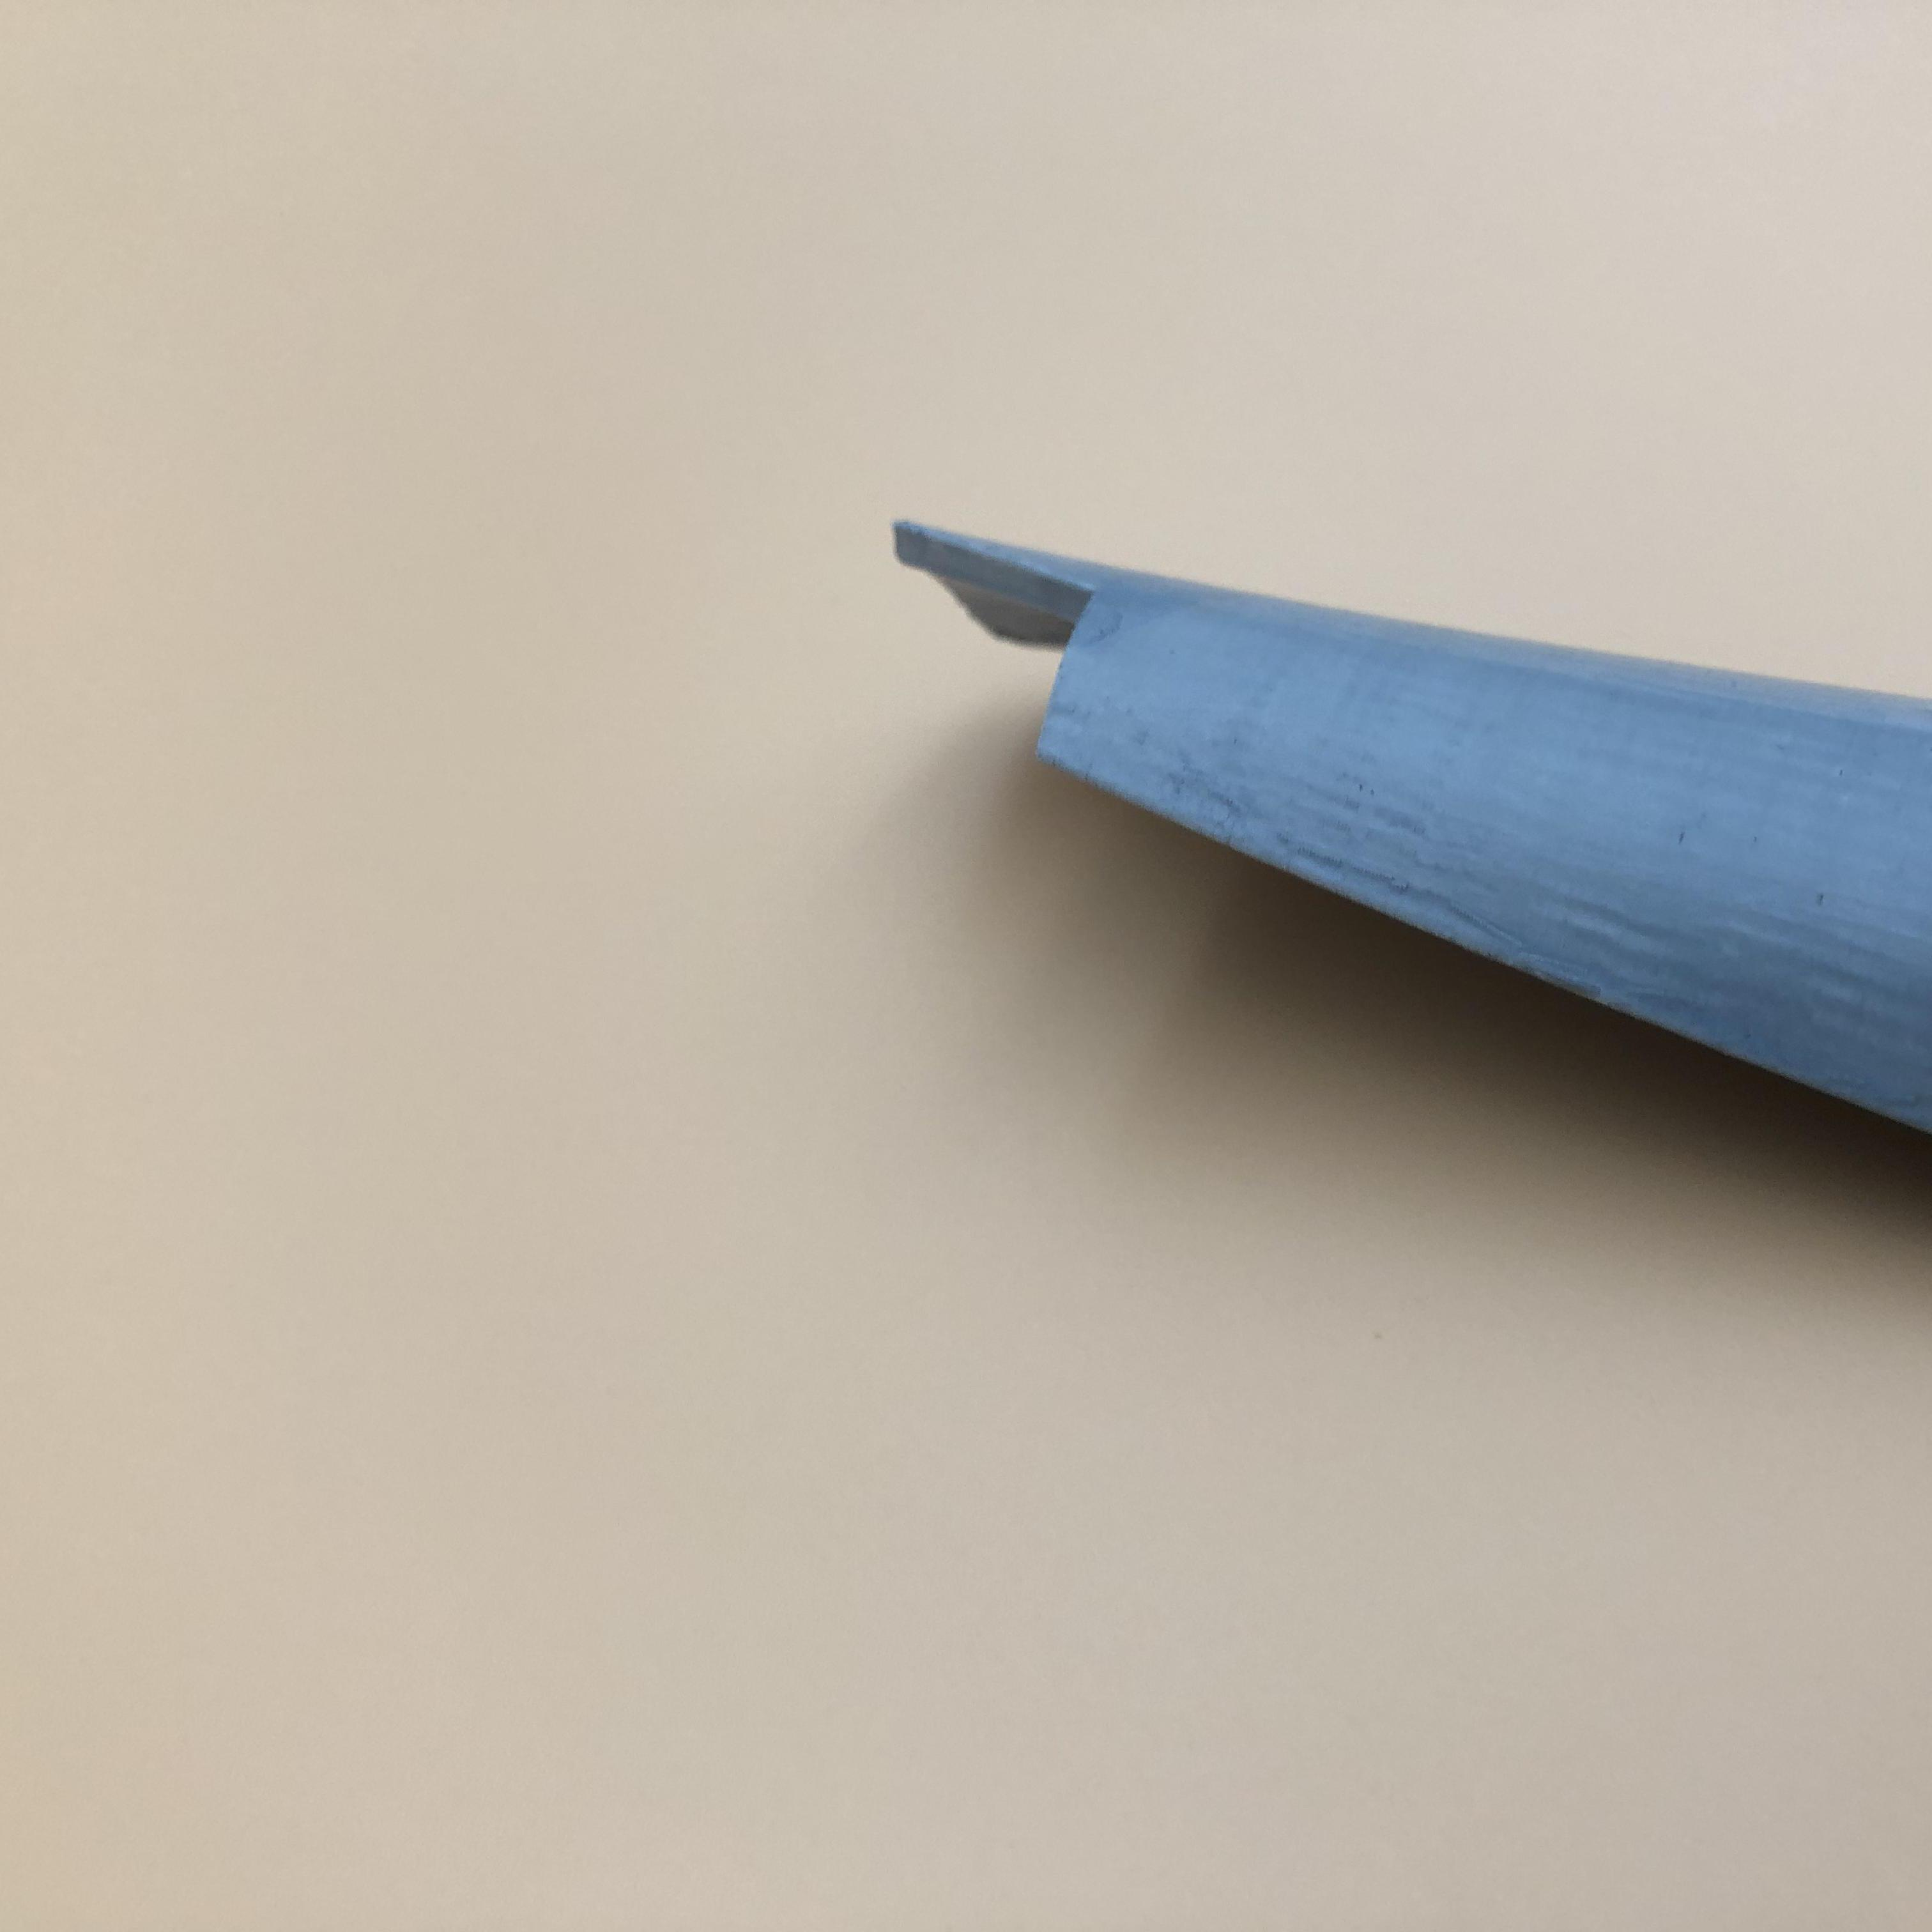fracture: (911, 515, 1132, 766)
